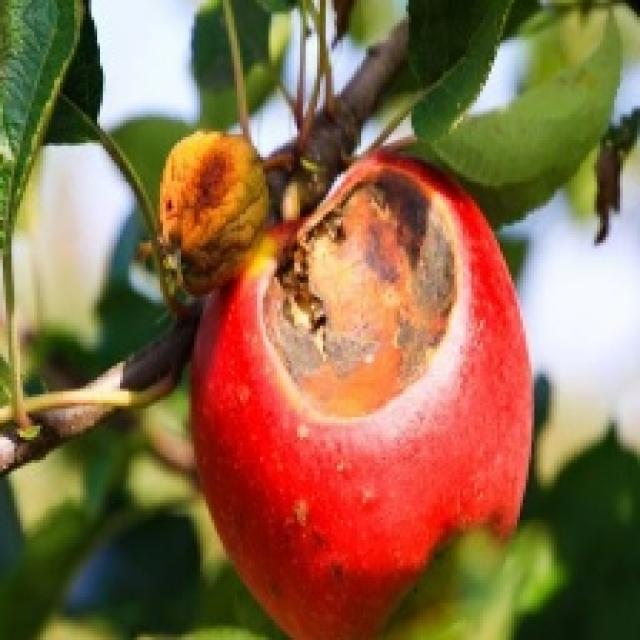rotten_apple: (200, 163, 530, 632)
